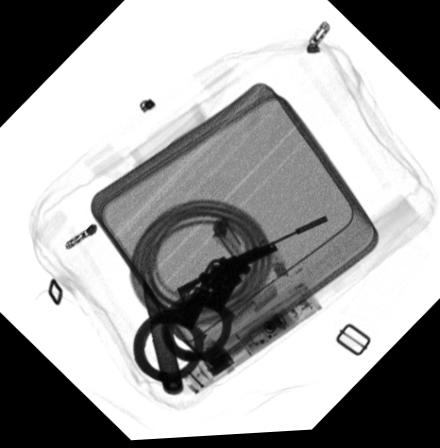Baton: (172, 283, 323, 400)
Bullet: (136, 264, 181, 398)
Gun: (173, 218, 329, 299)
HandCuffs: (131, 287, 235, 387)
